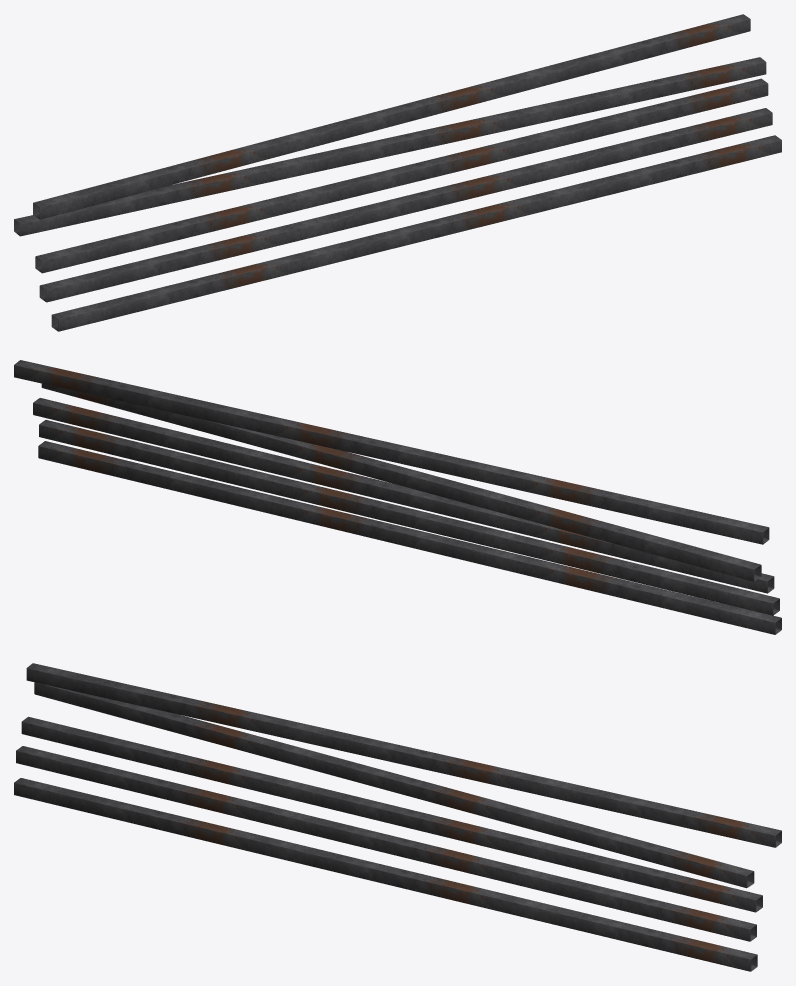
File: EST-MET-004_anim.glb
3 views of the same model, one above another, from view 1: azimuth 30°, elevation 25°; view 2: azimuth 150°, elevation 25°; view 3: azimuth 330°, elevation 25° (orthographic).
Parts seen in each view (by area): view 1: EST-MET-004_anim1, EST-MET-004_anim2, EST-MET-004_anim0, EST-MET-004_anim3, EST-MET-004_anim4; view 2: EST-MET-004_anim4, EST-MET-004_anim0, EST-MET-004_anim1, EST-MET-004_anim2, EST-MET-004_anim3; view 3: EST-MET-004_anim4, EST-MET-004_anim0, EST-MET-004_anim2, EST-MET-004_anim1, EST-MET-004_anim3.
Boxes of the visible parts, left/top/right/bottom form: EST-MET-004_anim1: left=39, top=108, right=772, bottom=302; EST-MET-004_anim2: left=35, top=78, right=768, bottom=273; EST-MET-004_anim0: left=51, top=135, right=781, bottom=331; EST-MET-004_anim3: left=14, top=57, right=766, bottom=236; EST-MET-004_anim4: left=33, top=14, right=750, bottom=219; EST-MET-004_anim4: left=14, top=360, right=769, bottom=544; EST-MET-004_anim0: left=38, top=441, right=781, bottom=634; EST-MET-004_anim1: left=39, top=420, right=779, bottom=615; EST-MET-004_anim2: left=33, top=398, right=774, bottom=593; EST-MET-004_anim3: left=41, top=383, right=761, bottom=581; EST-MET-004_anim4: left=26, top=663, right=781, bottom=847; EST-MET-004_anim0: left=14, top=778, right=757, bottom=971; EST-MET-004_anim2: left=21, top=716, right=762, bottom=912; EST-MET-004_anim1: left=16, top=746, right=756, bottom=941; EST-MET-004_anim3: left=34, top=682, right=754, bottom=888.
Size of the model in its own units: 3.04 by 0.45 by 0.2709.
Materials: 1 (1 with a texture image).
